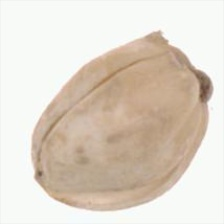L1: (156, 29, 214, 106), (33, 156, 60, 203)
L2: (30, 31, 213, 212)
